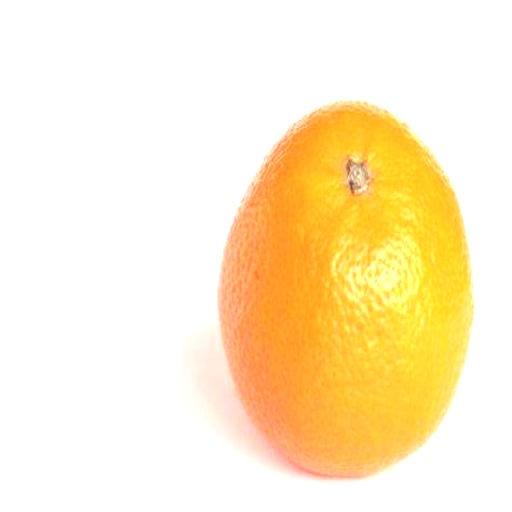fruit: (219, 101, 473, 475)
